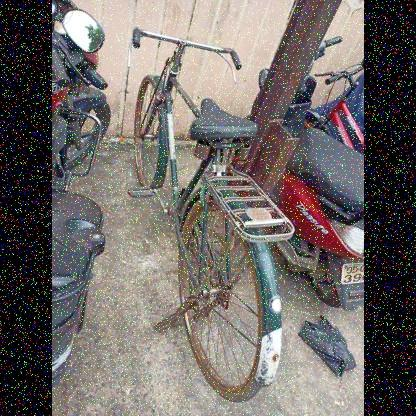Bicycle: (114, 17, 294, 398)
